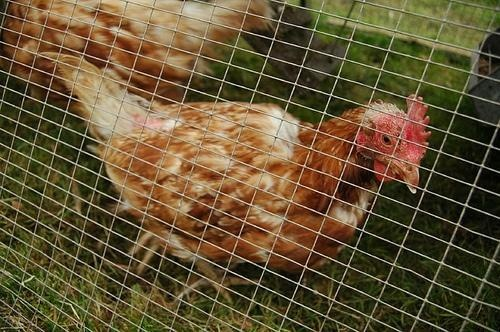bird: (38, 53, 432, 302)
